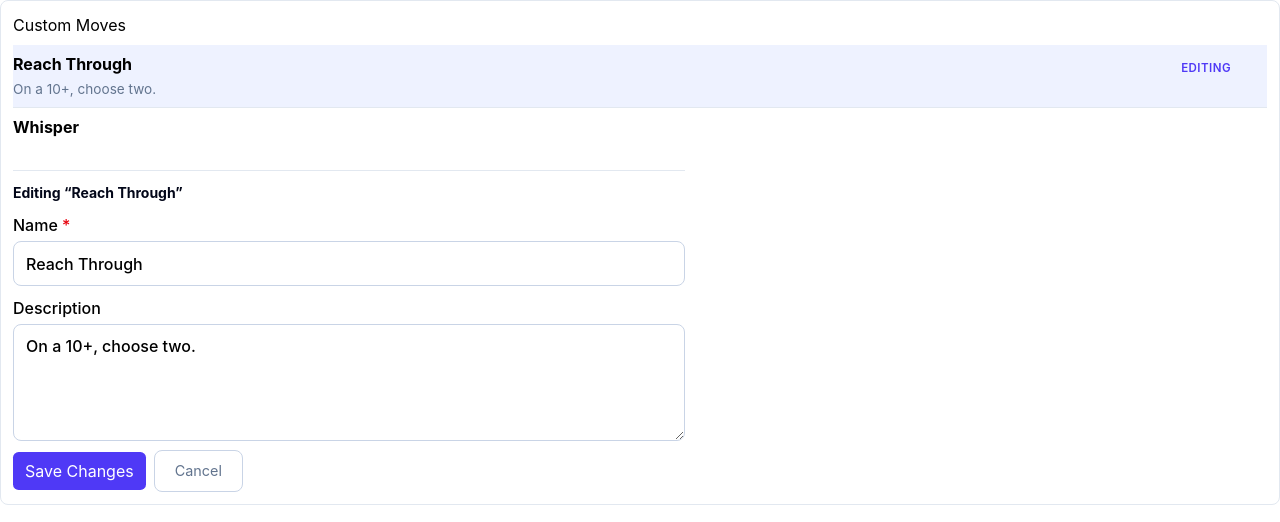
Scenario: CustomMovesCardComponent › editing › clears the editing key and the form on Cancel, discarding the edit
This screenshot has width=1280, height=522.
Replace the text in the field labelled "Name *" with "Abandoned edit": (349, 264) [13,241,685,286]
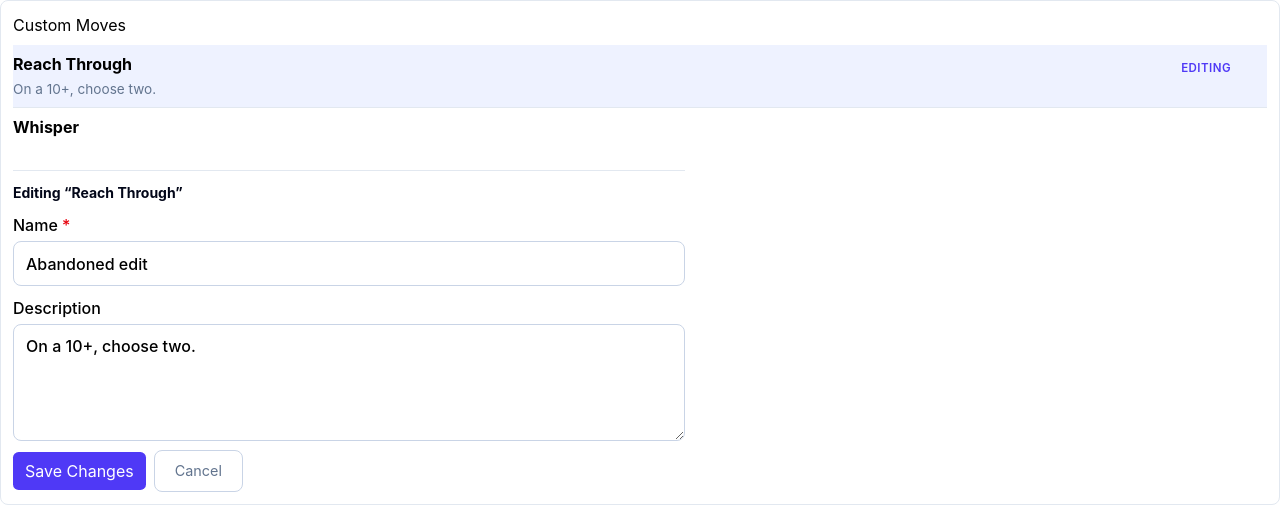
Click the button "Cancel": click(198, 471) [154,450,243,492]
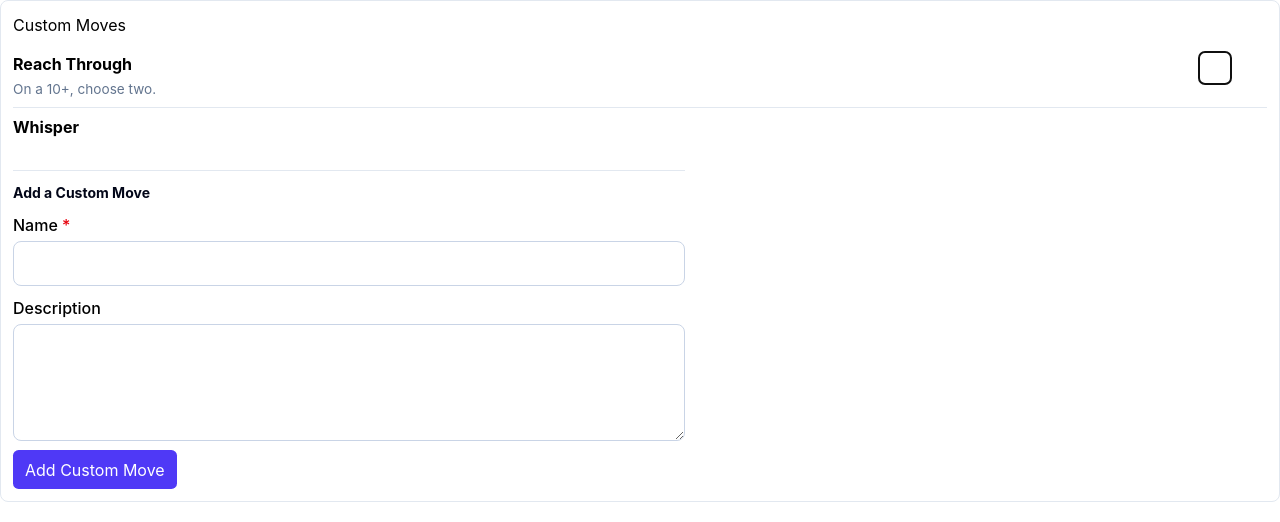
Check: the list item "Reach Through On a 10+, choose two." is shown, box [13,45,1267,108]
Check: the field labelled "Name *" is empty, box [13,241,685,286]
